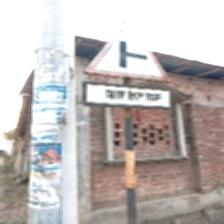Side-road-left: (81, 33, 173, 115)
